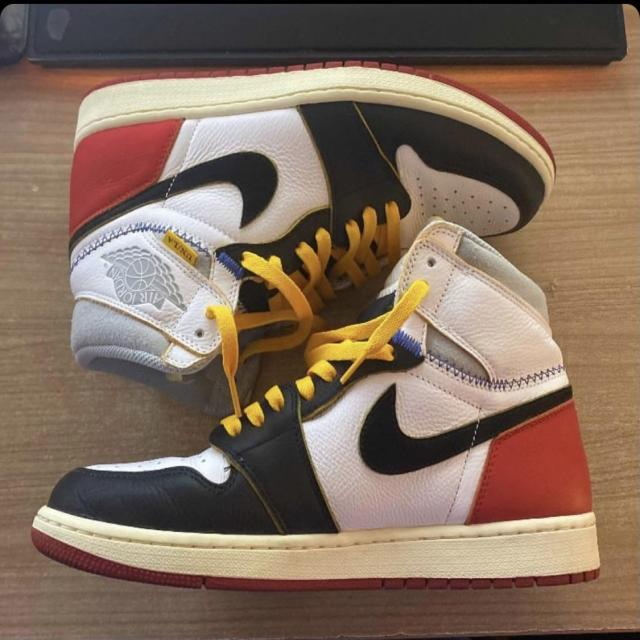shoe: (27, 216, 602, 600), (64, 57, 571, 420)
